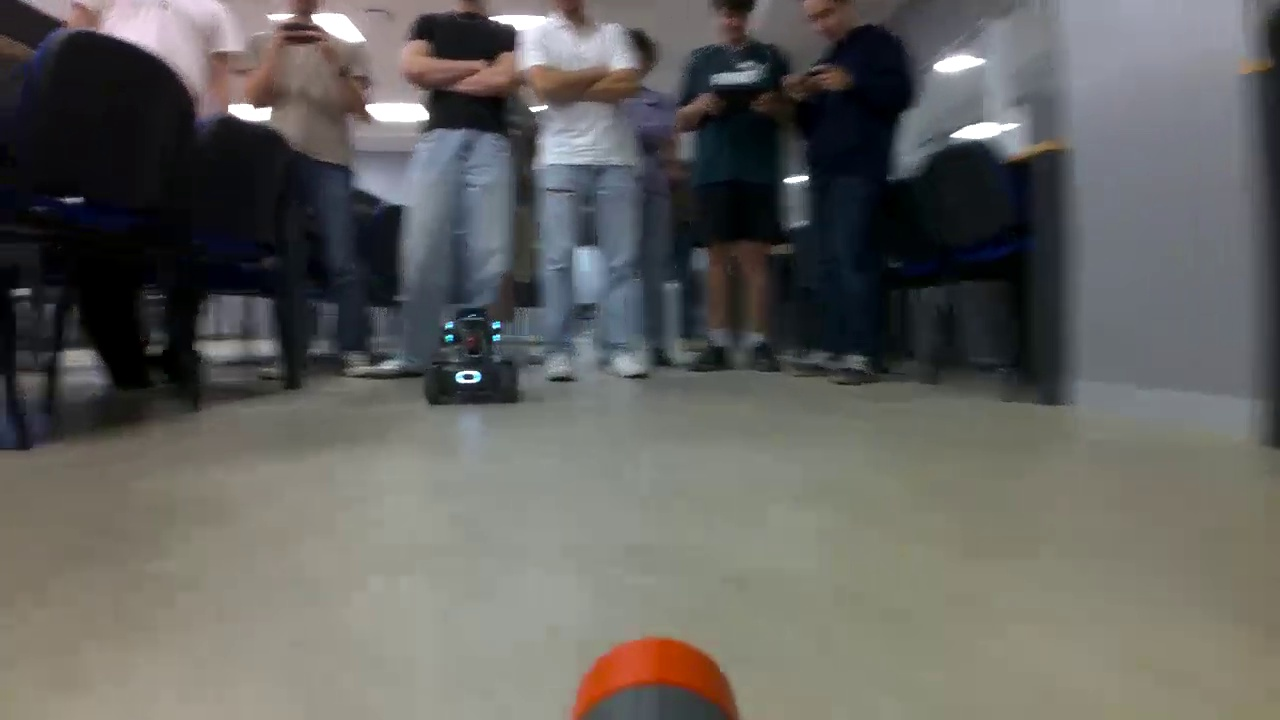robot: (422, 308, 522, 405)
